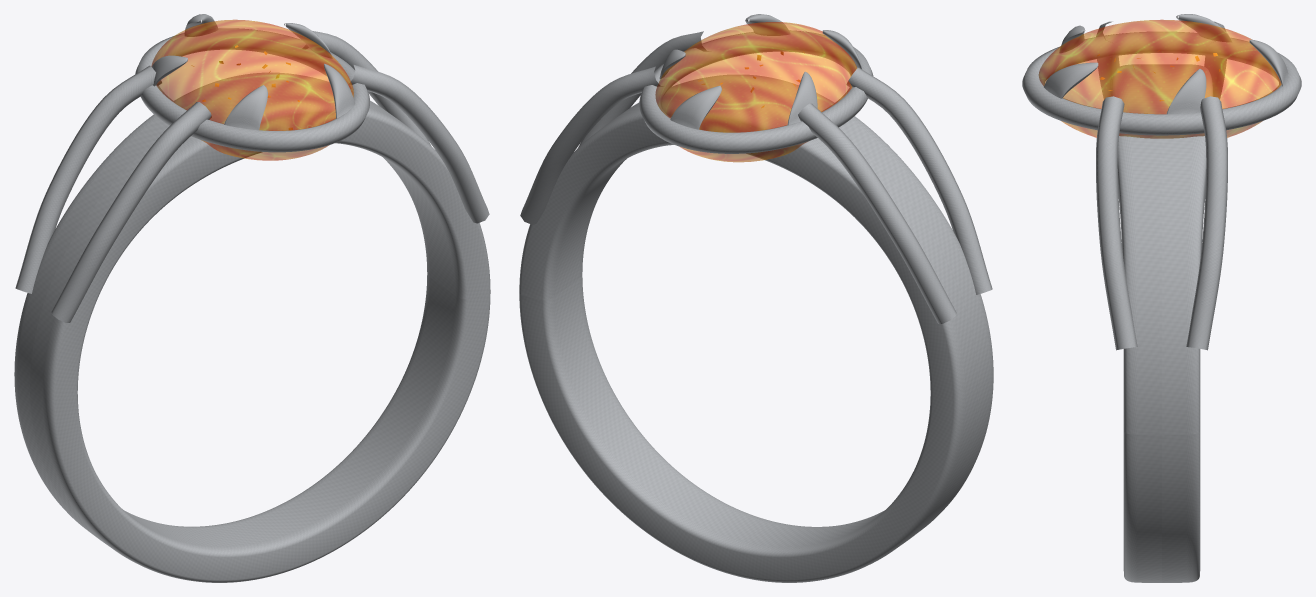
File: emberite_ring.glb
3 renders of one model, left to right at view 1: azimuth 30°, elevation 25°; view 2: azimuth 150°, elevation 25°; view 3: azimuth 270°, elevation 25°, orthographic.
Parts seen in each view (by area): view 1: Engraved antique silver, Polished translucent fire amber emberite; view 2: Engraved antique silver, Polished translucent fire amber emberite; view 3: Engraved antique silver, Polished translucent fire amber emberite.
Boxes of the visible parts, x1=… form: Engraved antique silver: x1=14, y1=14, x2=490, y2=582; Polished translucent fire amber emberite: x1=151, y1=19, x2=353, y2=160; Engraved antique silver: x1=519, y1=14, x2=993, y2=582; Polished translucent fire amber emberite: x1=655, y1=22, x2=856, y2=162; Engraved antique silver: x1=1022, y1=14, x2=1301, y2=582; Polished translucent fire amber emberite: x1=1038, y1=19, x2=1281, y2=138.
Bounding box in the file's own units: 0.0234 × 0.0264 × 0.0127.
Materials: 3 (2 with a texture image).
